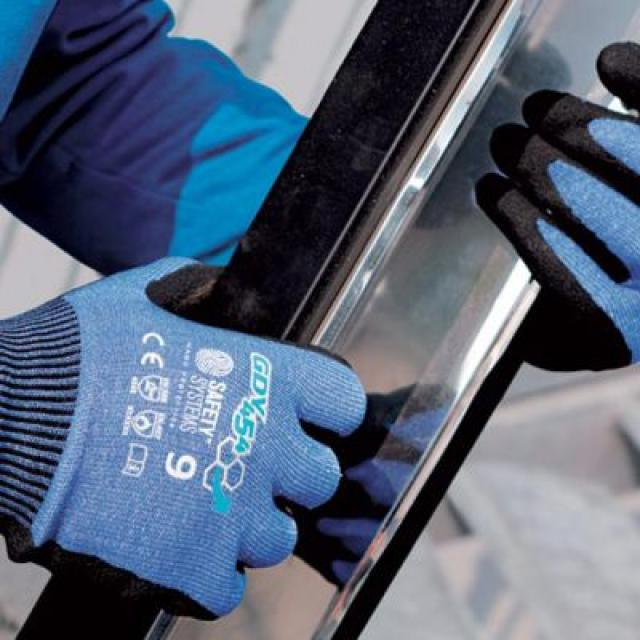gloves: (0, 258, 371, 622), (475, 37, 640, 374)
